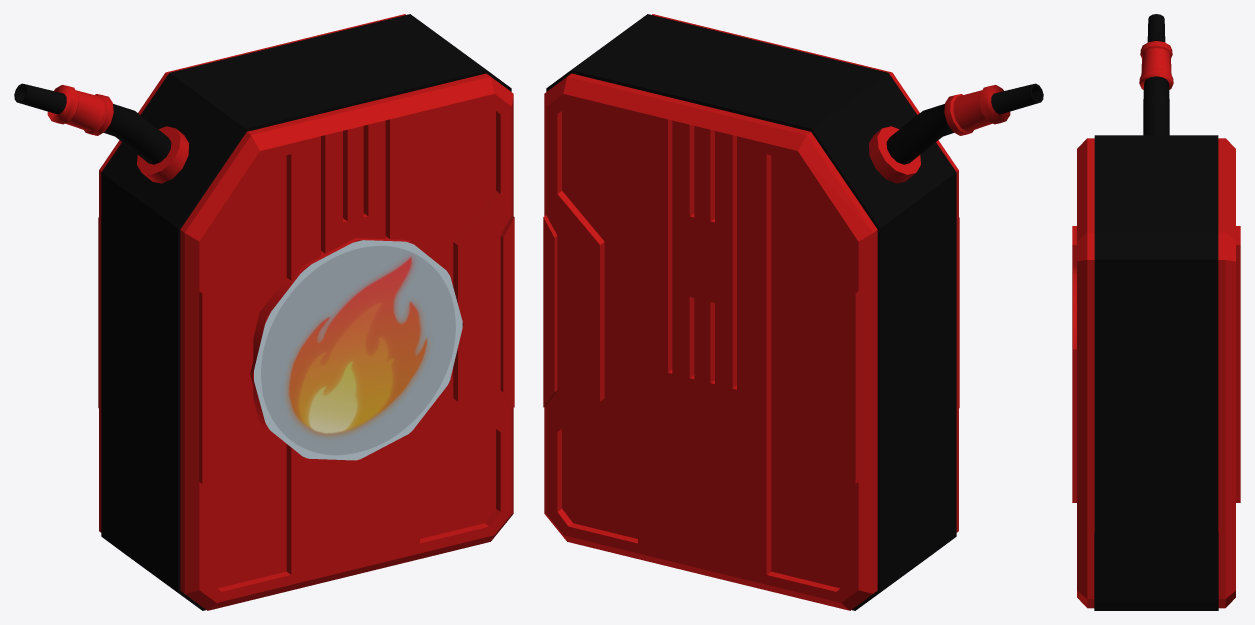
The model's file is Boost.fbx.
The picture shows the model from 3 angles, left to right: view 1: azimuth 30°, elevation 25°; view 2: azimuth 150°, elevation 25°; view 3: azimuth 270°, elevation 25°; orthographic projection. The views are drawn at different scales.
Visible parts, largest first — view 1: Boost_Base, Boost_Icon, Boost_Hose; view 2: Boost_Base, Boost_Hose; view 3: Boost_Base, Boost_Hose, Boost_Icon.
Part boxes in pixels (box(x1,y1,x2,y2)): Boost_Base: box(98, 14, 514, 610); Boost_Icon: box(250, 236, 463, 460); Boost_Hose: box(14, 83, 188, 183); Boost_Base: box(543, 14, 959, 610); Boost_Hose: box(869, 83, 1043, 183); Boost_Base: box(1072, 135, 1240, 610); Boost_Hose: box(1139, 14, 1173, 135); Boost_Icon: box(1073, 266, 1076, 349).
Bounding box in the file's own units: 154 × 172 × 60.86.
Materials: 3 (1 with a texture image).
